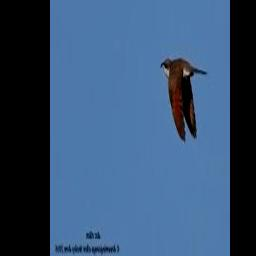Cuckoo: (161, 57, 209, 139)
